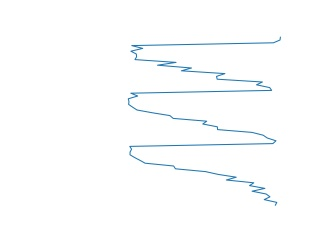distributaryMouthBar: (126, 35, 283, 207)
